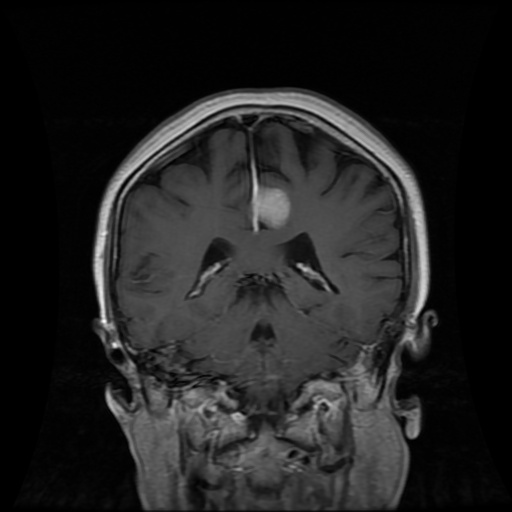meningioma: (250, 183, 291, 227)
